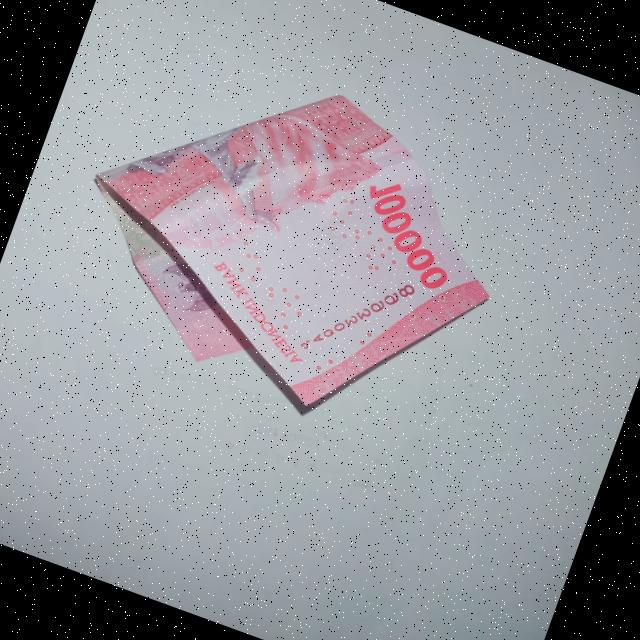100K: (69, 39, 536, 464)
